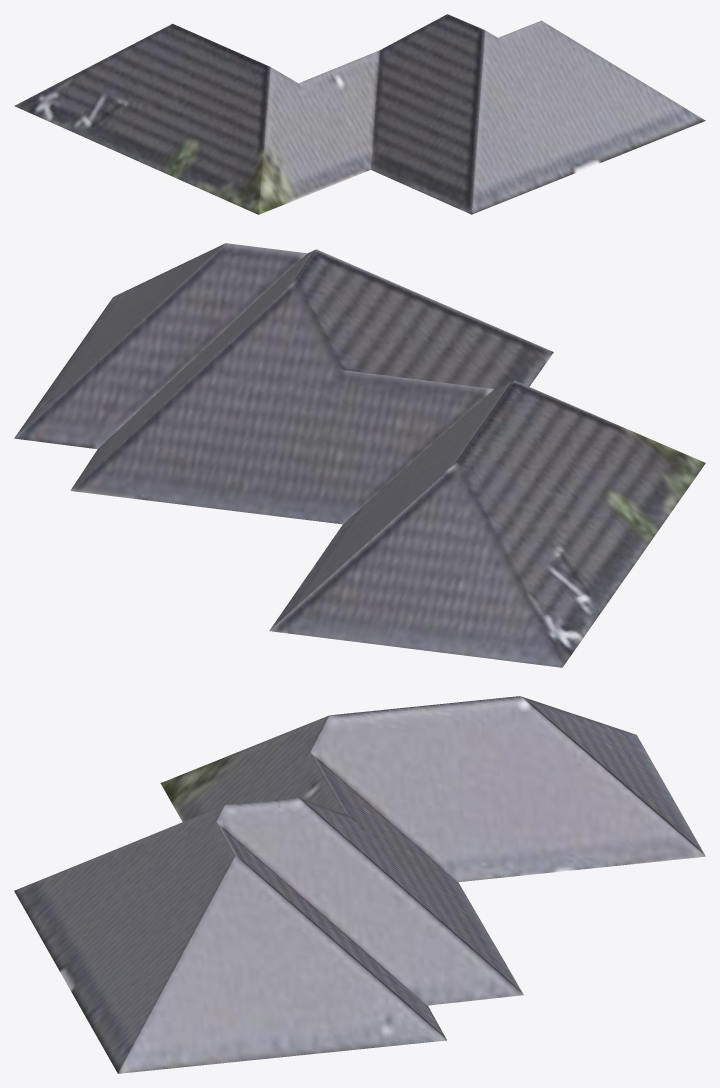
Rendered from BK39_500_017030_0023_roof.obj.
3 views of the same model, one above another, from view 1: azimuth 30°, elevation 25°; view 2: azimuth 150°, elevation 25°; view 3: azimuth 270°, elevation 25° (orthographic). The views are drawn at different scales.
Visible parts, largest first — view 1: BK39_500_017030_0023_roof; view 2: BK39_500_017030_0023_roof; view 3: BK39_500_017030_0023_roof.
Part boxes in pixels (left/top/right/bottom): BK39_500_017030_0023_roof: left=14, top=14, right=705, bottom=214; BK39_500_017030_0023_roof: left=14, top=243, right=705, bottom=667; BK39_500_017030_0023_roof: left=14, top=696, right=705, bottom=1073.
Bounding box in the file's own units: 347 × 70 × 299.
Materials: 1 (1 with a texture image).
